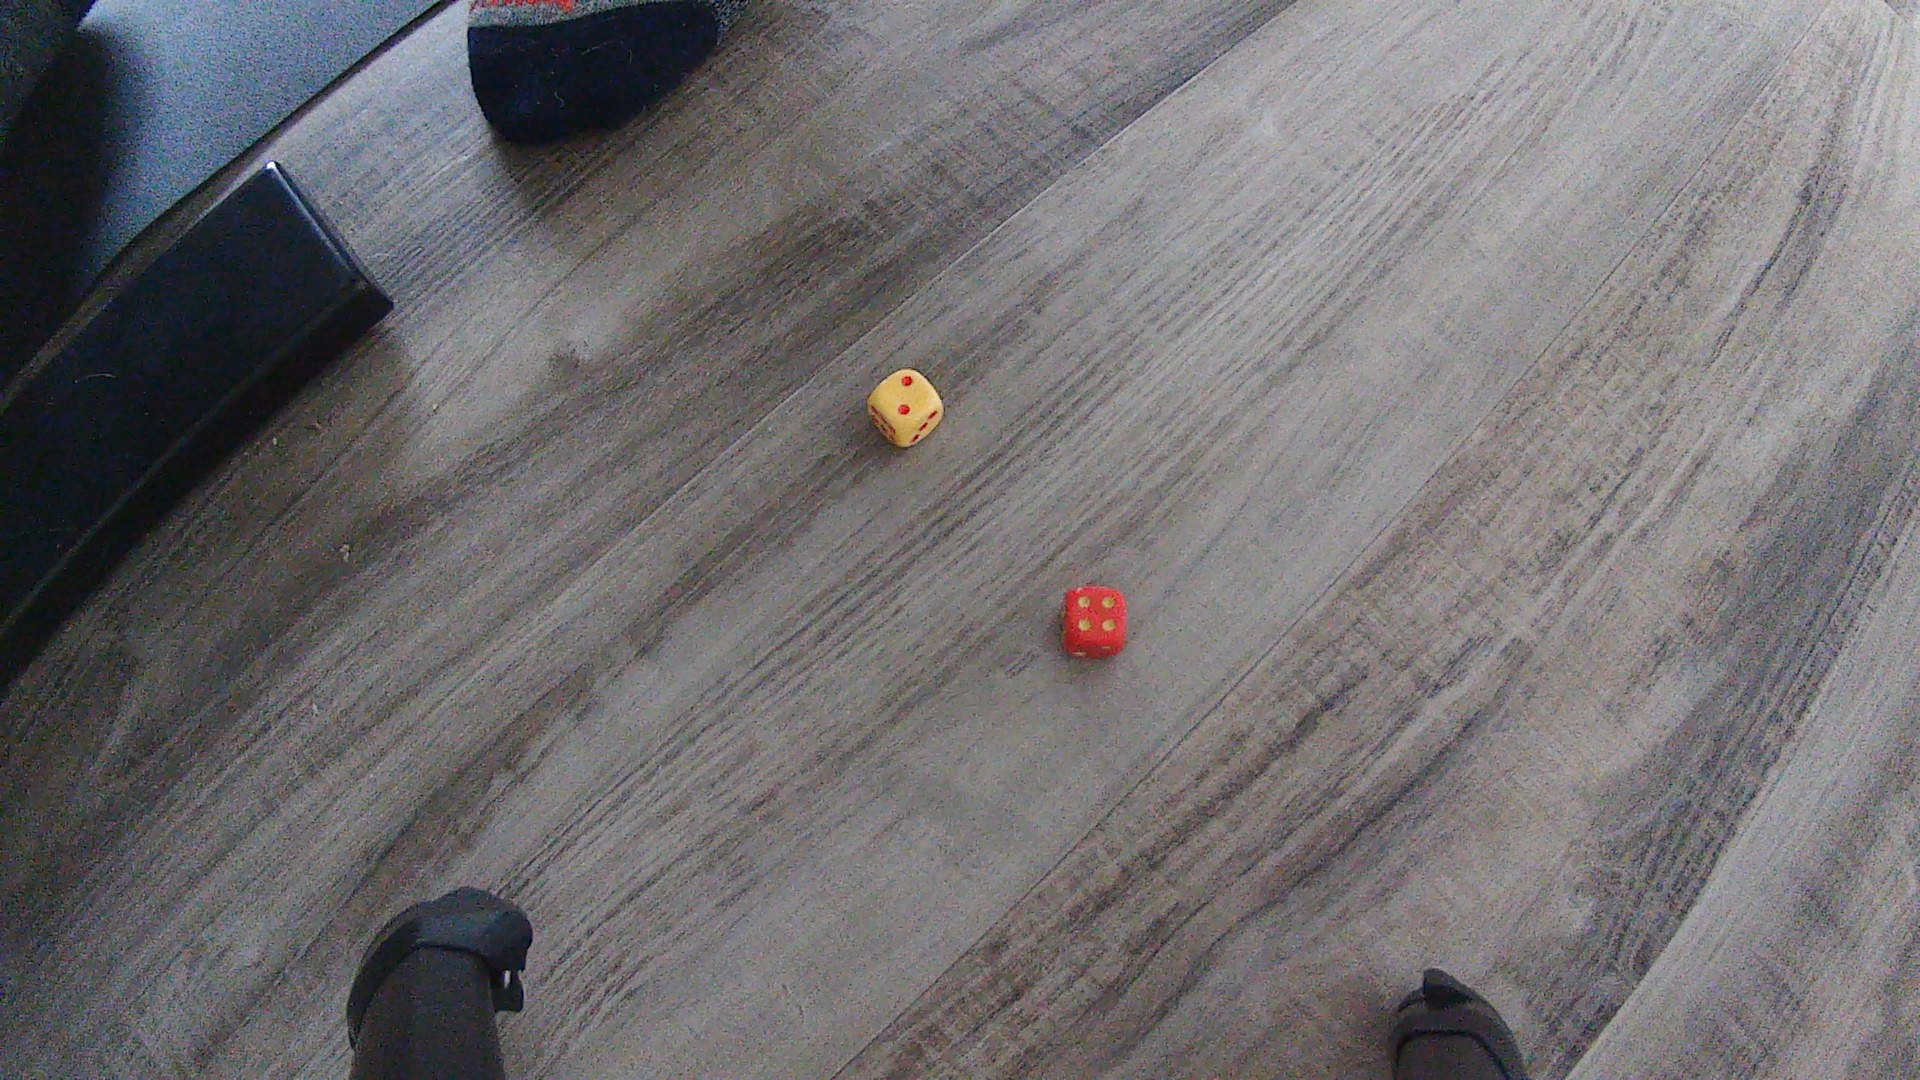die: (866, 367, 945, 450), (1062, 584, 1127, 659)
